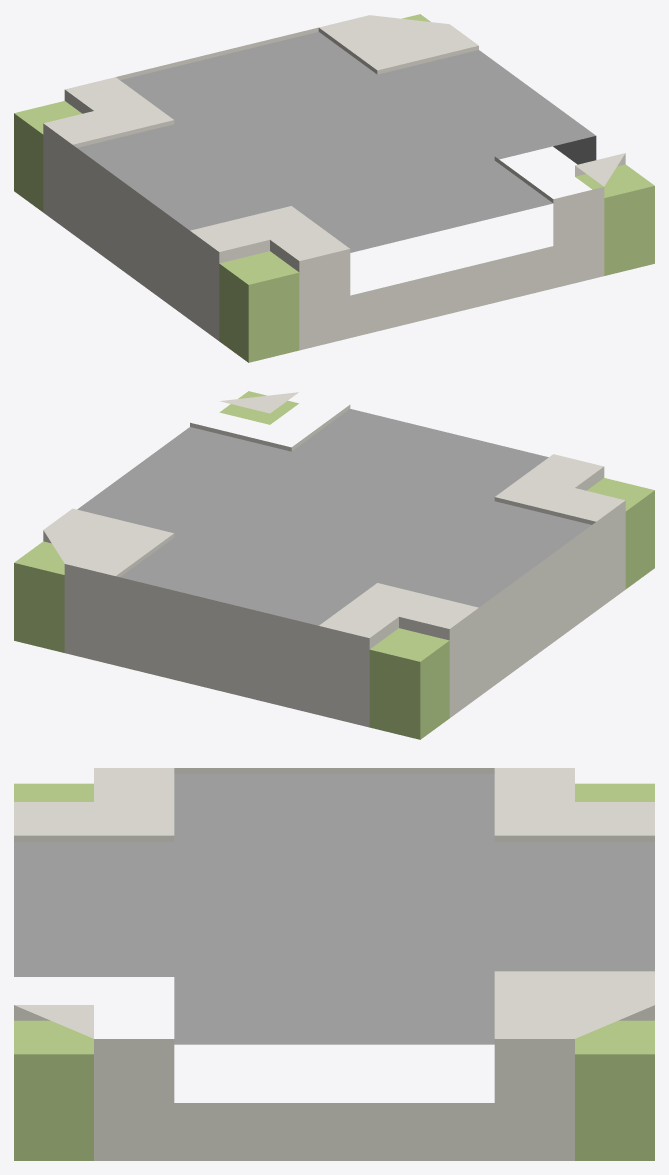
Rendered from roadtile-141.glb.
3 renders of one model, top to bottom at view 1: azimuth 30°, elevation 25°; view 2: azimuth 150°, elevation 25°; view 3: azimuth 270°, elevation 25°, orthographic. The views are drawn at different scales.
Visible parts, largest first — view 1: Mesh1 Group1 Model; view 2: Mesh1 Group1 Model; view 3: Mesh1 Group1 Model.
Boxes of the visible parts, box(x1,y1,x2,y2) form: Mesh1 Group1 Model: box(14, 14, 654, 362); Mesh1 Group1 Model: box(14, 391, 654, 739); Mesh1 Group1 Model: box(14, 768, 654, 1160).
Size of the model in its own units: 3 by 0.63 by 3.
